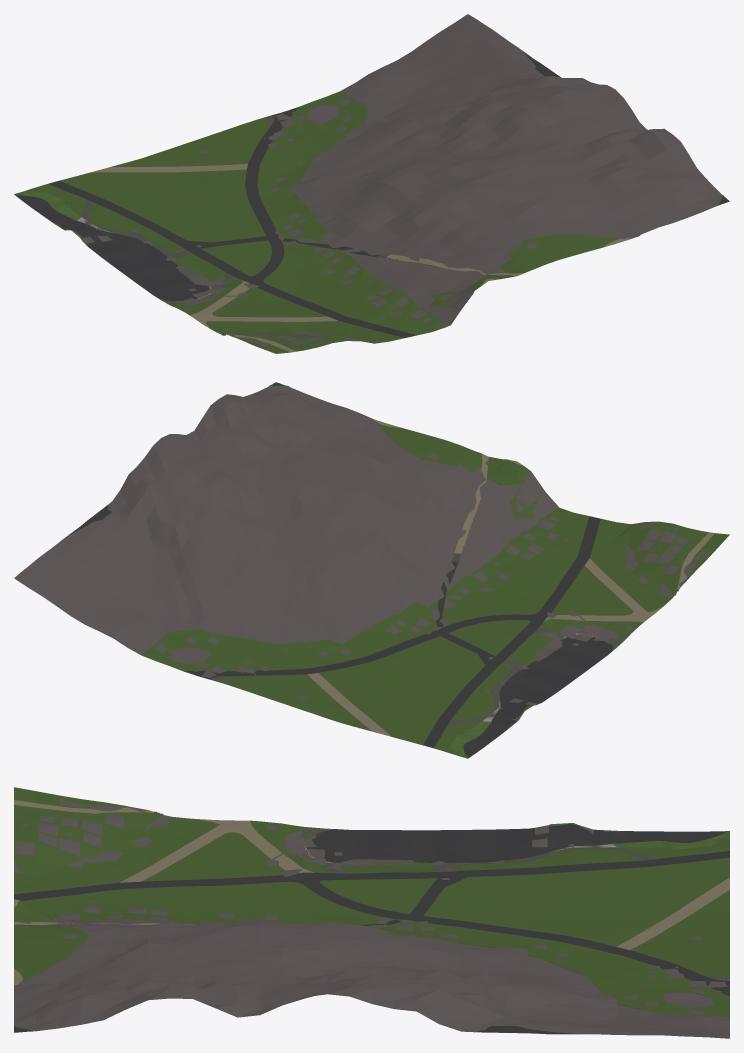
3 renders of one model, top to bottom at view 1: azimuth 30°, elevation 25°; view 2: azimuth 150°, elevation 25°; view 3: azimuth 270°, elevation 25°, orthographic. The views are drawn at different scales.
Parts seen in each view (by area): view 1: c_m07_m18, append:c_m07_m18; view 2: c_m07_m18, append:c_m07_m18; view 3: c_m07_m18, append:c_m07_m18.
Part boxes in pixels (left/top/right/bottom): c_m07_m18: left=23, top=14, right=729, bottom=353; append:c_m07_m18: left=14, top=191, right=212, bottom=301; c_m07_m18: left=14, top=382, right=729, bottom=756; append:c_m07_m18: left=451, top=633, right=613, bottom=758; c_m07_m18: left=14, top=787, right=729, bottom=1038; append:c_m07_m18: left=303, top=823, right=729, bottom=865.
Size of the model in its own units: 128 by 27.72 by 128.
